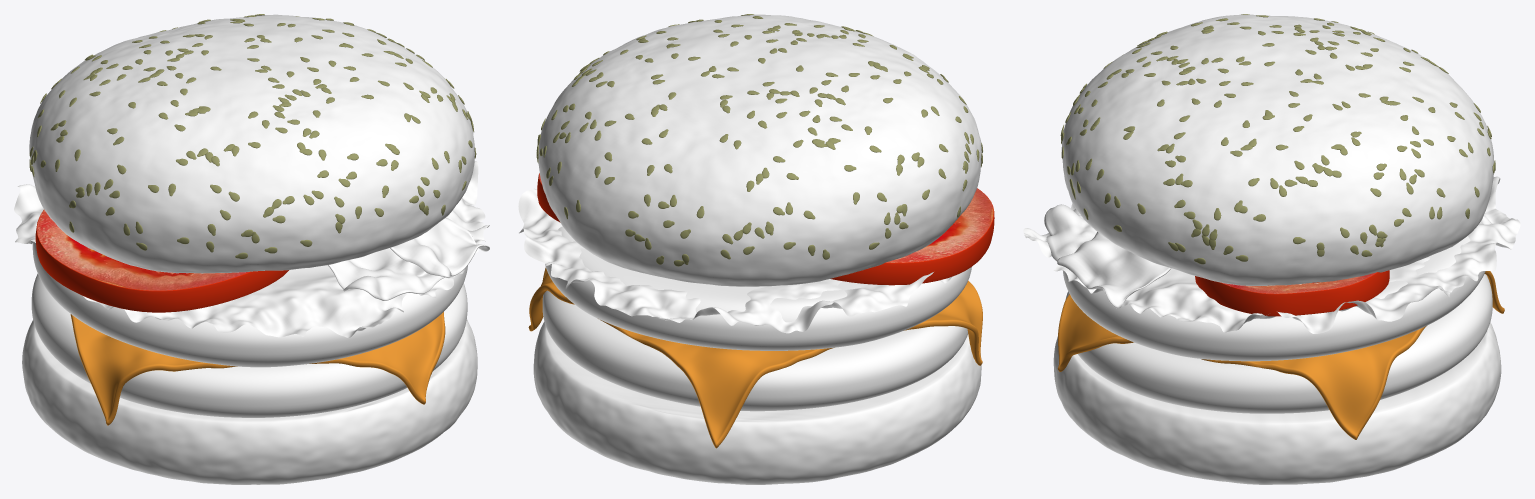
Rendered from burger_merged.glb.
The picture shows the model from 3 angles, left to right: view 1: azimuth 30°, elevation 25°; view 2: azimuth 150°, elevation 25°; view 3: azimuth 270°, elevation 25°; orthographic projection.
Parts seen in each view (by area): view 1: Cylinder; view 2: Cylinder; view 3: Cylinder.
Boxes of the visible parts, left/top/right/bottom form: Cylinder: left=14, top=14, right=489, bottom=484; Cylinder: left=518, top=14, right=994, bottom=484; Cylinder: left=1023, top=14, right=1520, bottom=484.
Size of the model in its own units: 2.23 by 1.74 by 2.31.
9 materials, 1 textured.
